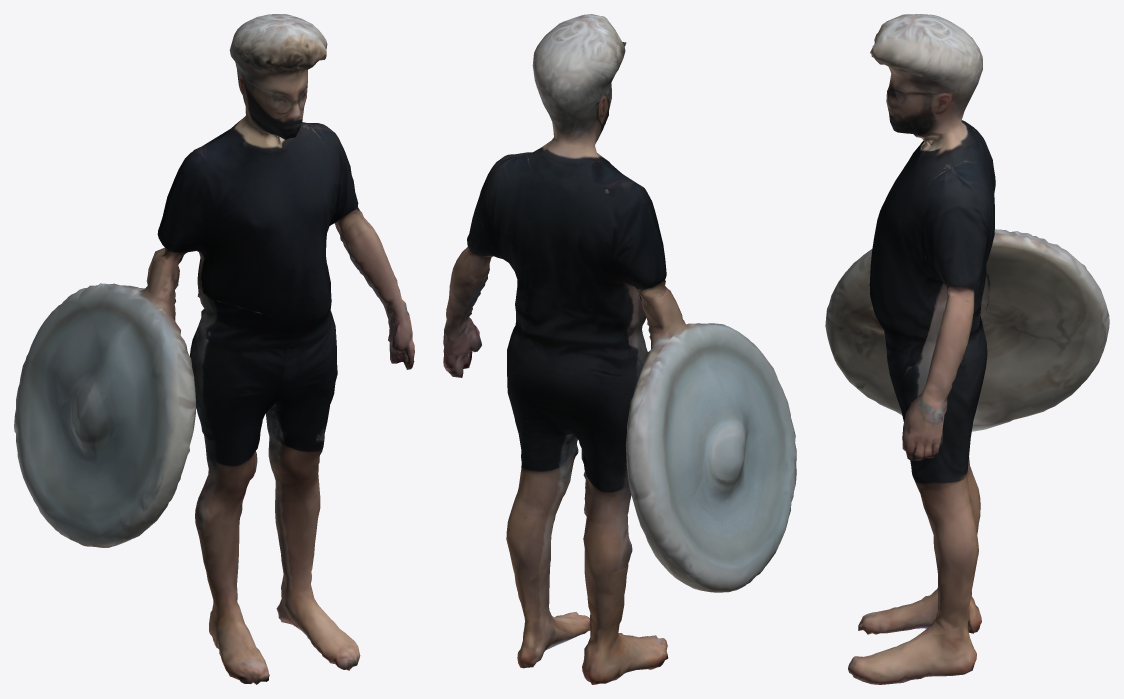
The model's file is standard.glb.
The picture shows the model from 3 angles, left to right: view 1: azimuth 30°, elevation 25°; view 2: azimuth 150°, elevation 25°; view 3: azimuth 270°, elevation 25°; orthographic projection.
Size of the model in its own units: 0.6458 by 1.2 by 0.4814.
Materials: 1 (1 with a texture image).
